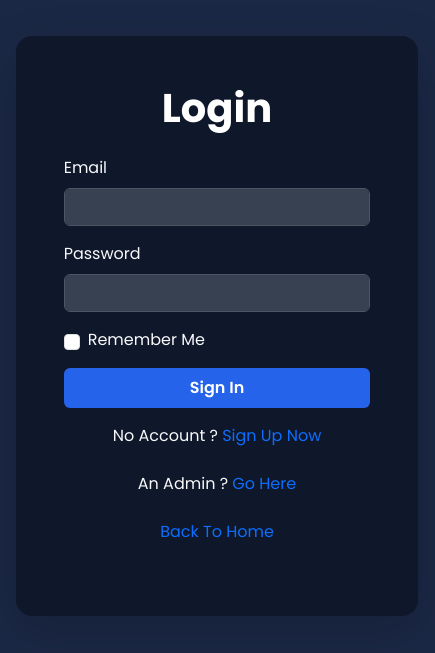
Login Page Validation Test › shows error when email is invalid
Type "wrongemail" into the field labelled "Email".
click(217, 207); type("wrongemail")  # box [64,188,370,226]
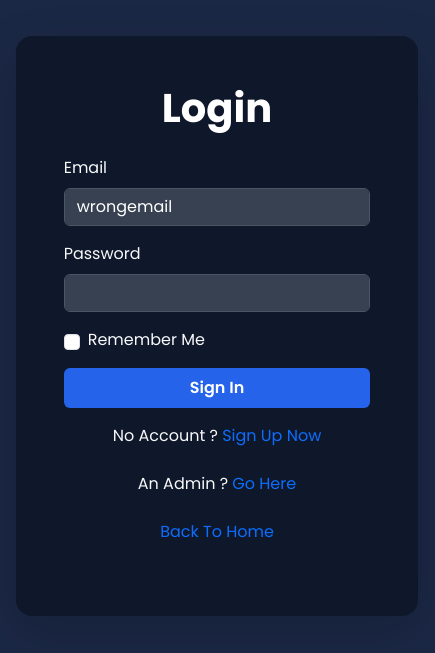
Type "123456" into the password field labelled "Password".
click(217, 293); type("123456")  # box [64,274,370,312]
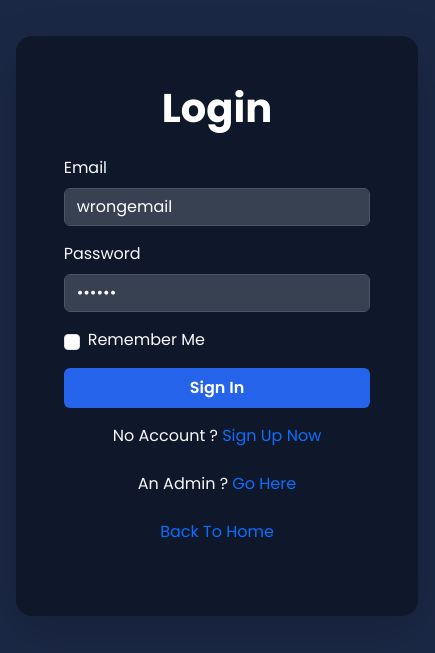
Click the button "Sign In".
click(217, 388)  # box [64,368,370,408]
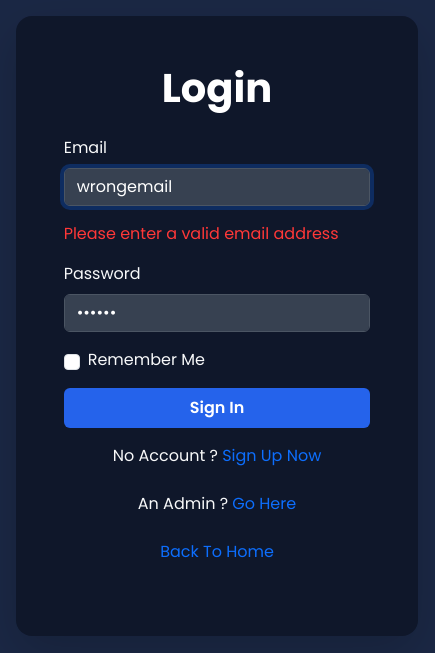
Expected: the text "Please enter a valid email address" is shown, [64,222,370,246]
